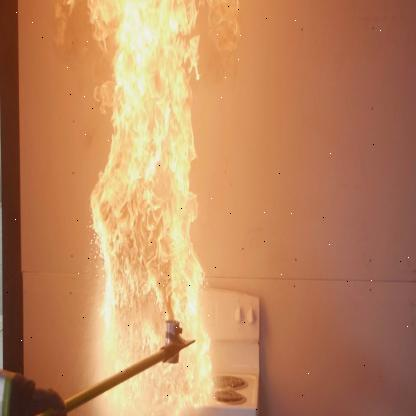fire: (59, 0, 247, 416)
